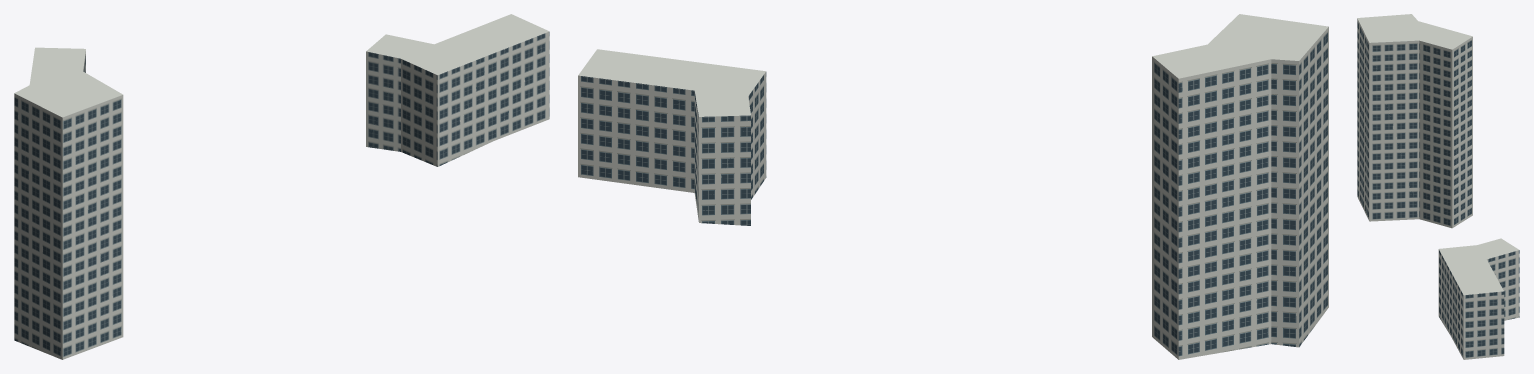
Rendered from city_-6_-6.glb.
The picture shows the model from 3 angles, left to right: view 1: azimuth 30°, elevation 25°; view 2: azimuth 150°, elevation 25°; view 3: azimuth 270°, elevation 25°; orthographic projection. The views are drawn at different scales.
Size of the model in its own units: 143 by 59.15 by 47.78.
1 material, 1 textured.
